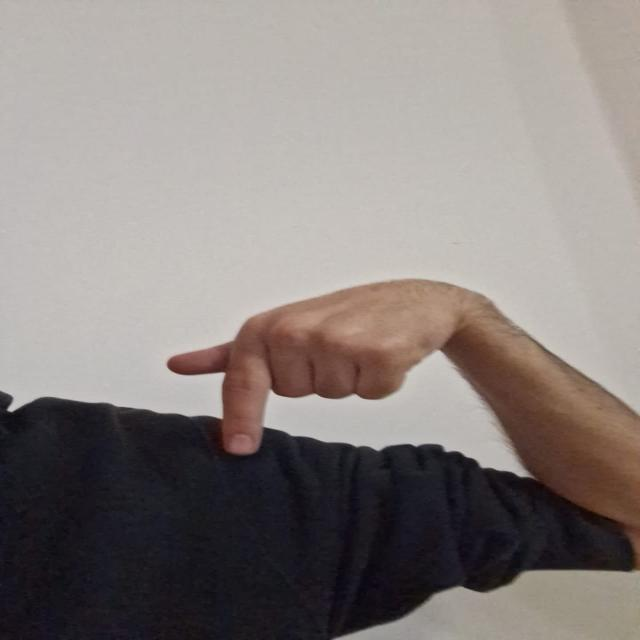Q: (154, 278, 459, 457)
